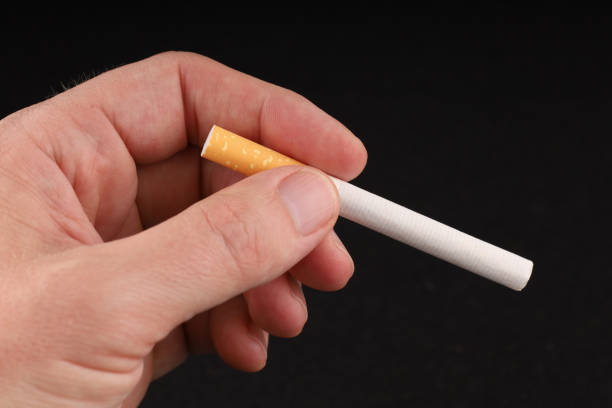cigarette: (198, 121, 535, 292)
